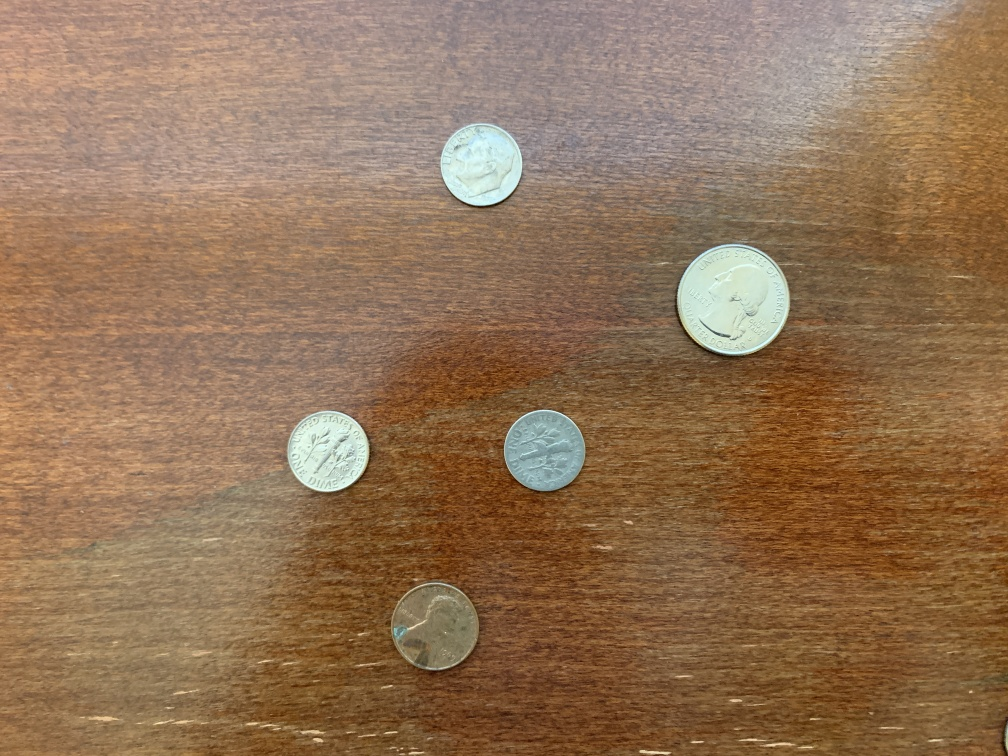dime: (500, 404, 591, 502), (284, 407, 373, 504), (436, 117, 524, 213)
penny: (389, 578, 483, 672)
quarter: (670, 240, 793, 361)
